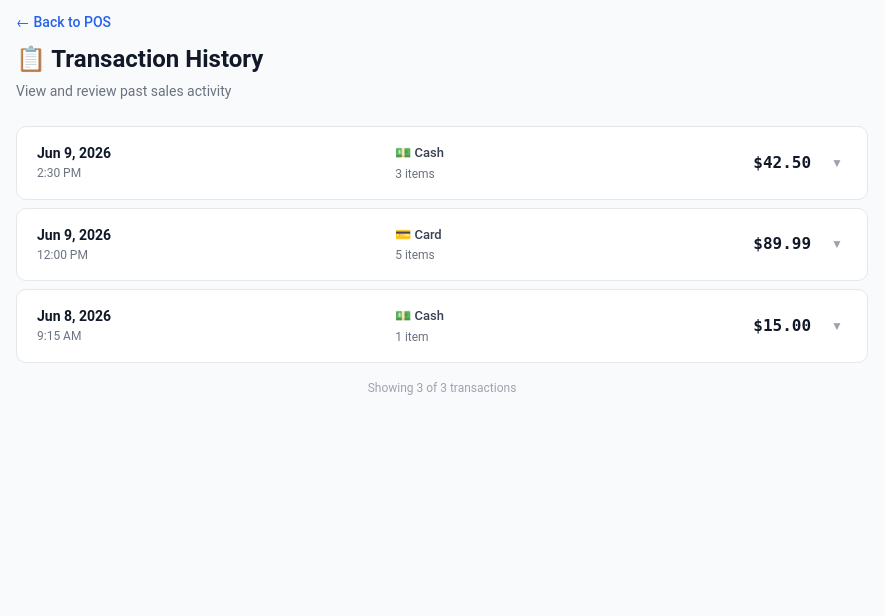
TransactionHistoryComponent › transaction expansion › should expand transaction details on click
Step 1. Click the button with test id "transaction-TXN-CASH-001" → (442, 163), box [16, 126, 868, 200]
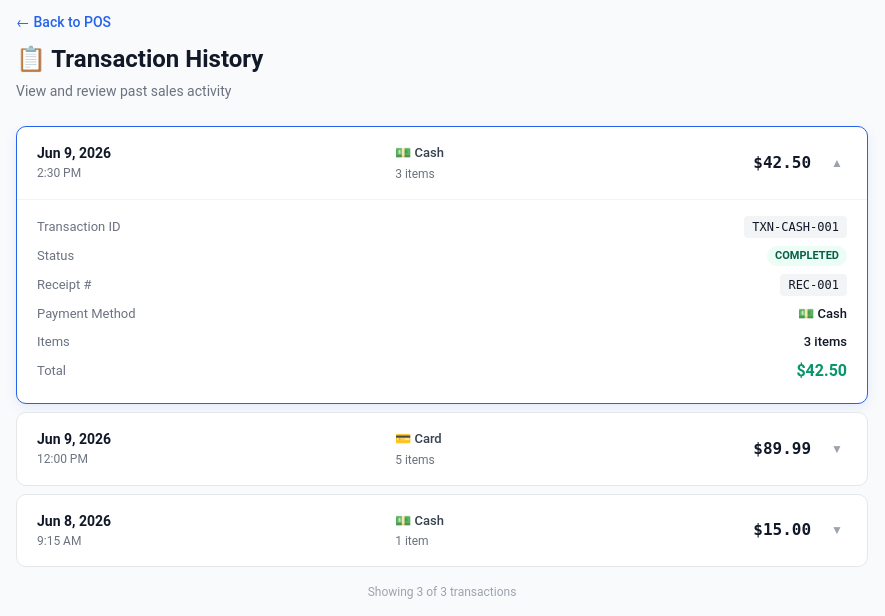
expect the element with test id "details-TXN-CASH-001" is shown: met, box [17, 198, 867, 403]
